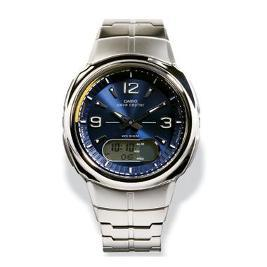watch: (61, 47, 206, 201)
